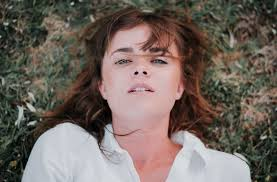no-mask: (95, 19, 184, 129)
